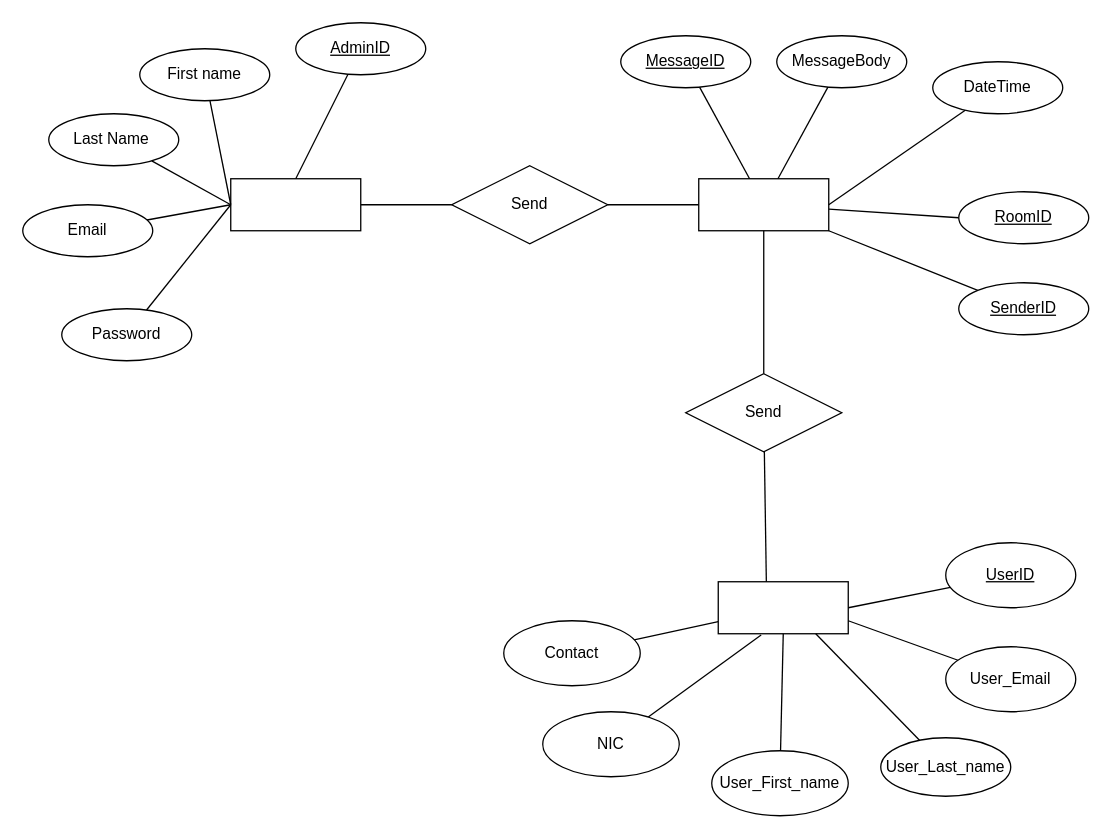
Image size: 1112x838. Some labels were removed from this diagram. The centre of each missing label's shape, as x and y in pixels:
Admin: the point at 295,204
Message: the point at 763,204
User: the point at 782,607
